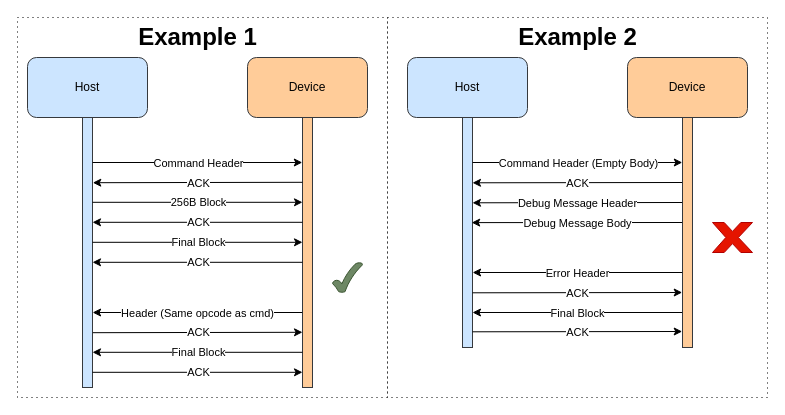
Some shapes in this 785 by 415 pixel diagram are drawn without their labels. Each missing label, with the box of its shape:
Command Proccessing Succeeds: (332, 262, 362, 292)
Command Processing Fails: (712, 222, 752, 252)
